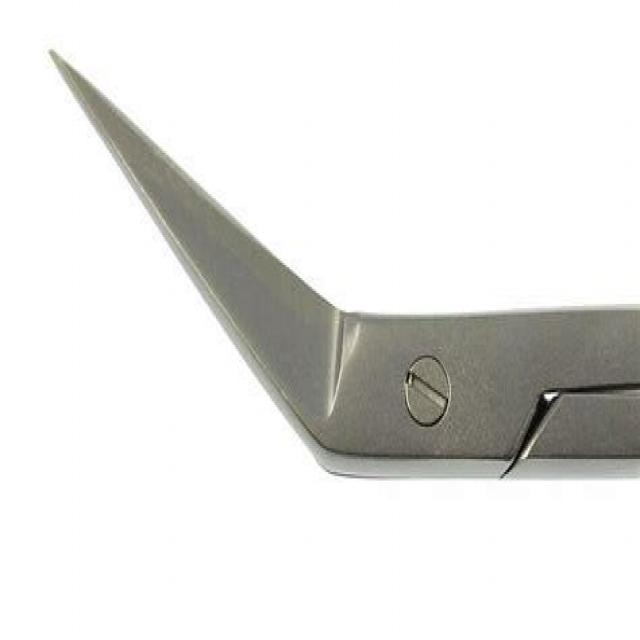Potts: (44, 41, 640, 489)
